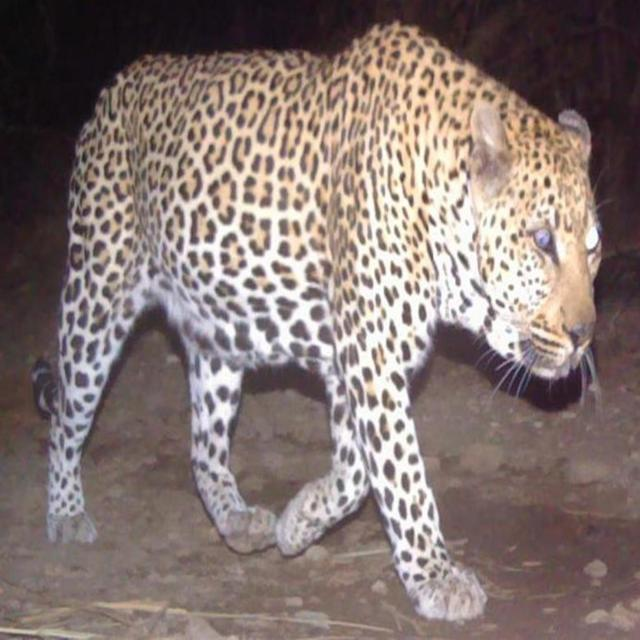Leopard: (21, 47, 619, 592)
